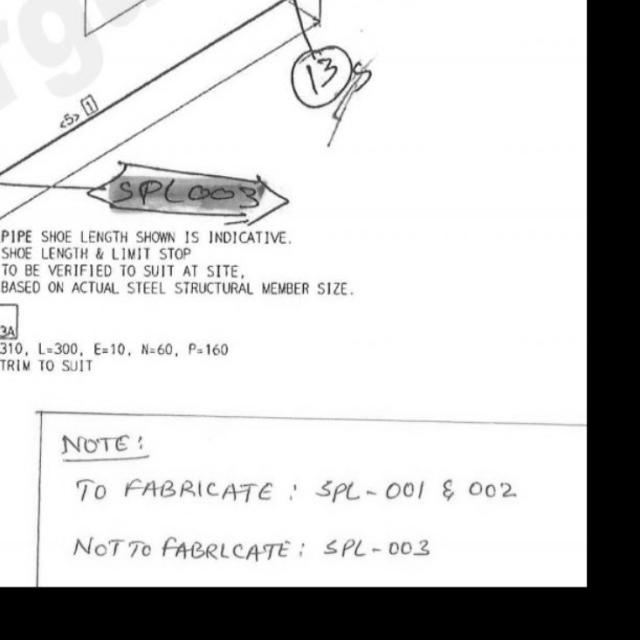Item number: (0, 300, 21, 341), (77, 89, 102, 120)
Pipeline: (0, 0, 293, 179)
Symbol: (287, 1, 324, 36)
Weld number: (285, 39, 361, 117)
other: (0, 223, 360, 299), (0, 338, 242, 373)
